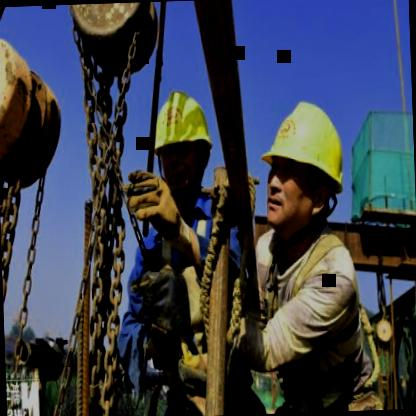helmet: (252, 83, 354, 248), (146, 80, 218, 212)
